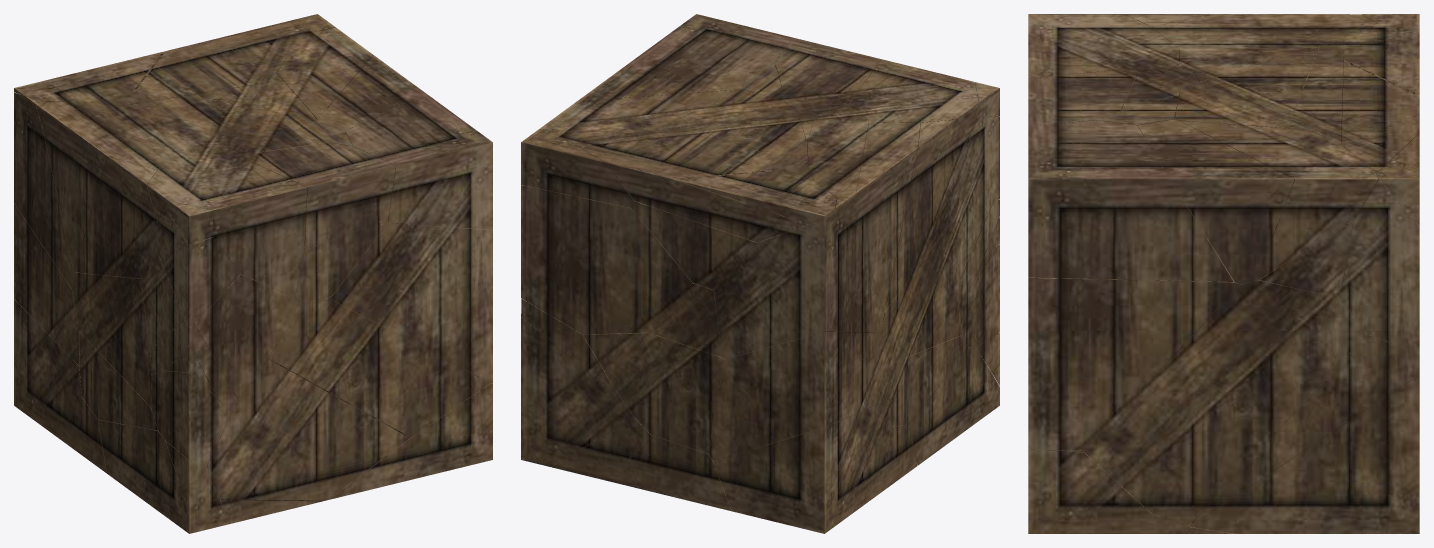
File: Shattered.fbx
The picture shows the model from 3 angles, left to right: view 1: azimuth 30°, elevation 25°; view 2: azimuth 150°, elevation 25°; view 3: azimuth 270°, elevation 25°; orthographic projection. The views are drawn at different scales.
Visible parts, largest first — view 1: Cube_cell.020, Cube_cell.052, Cube_cell.038, Cube_cell.008, Cube_cell.014, Cube_cell.051, Cube_cell.029, Cube_cell.005, Cube_cell.032, Cube_cell.036, Cube_cell.040, Cube_cell.046 (+23 smaller); view 2: Cube_cell.015, Cube_cell.047, Cube_cell.019, Cube_cell.026, Cube_cell.006, Cube_cell.021, Cube_cell.072, Cube_cell.005, Cube_cell.032, Cube_cell.040, Cube_cell.008, Cube_cell.014 (+26 smaller); view 3: Cube_cell.028, Cube_cell.014, Cube_cell.052, Cube_cell.072, Cube_cell.057, Cube_cell.070, Cube_cell.015, Cube_cell.018, Cube_cell.036, Cube_cell.008, Cube_cell.006, Cube_cell.058 (+12 smaller).
Boxes of the visible parts, x1,y1,x2,y2 form: Cube_cell.020: [207, 359, 409, 501]; Cube_cell.052: [330, 222, 492, 383]; Cube_cell.038: [267, 299, 489, 437]; Cube_cell.008: [146, 145, 307, 296]; Cube_cell.014: [345, 96, 492, 230]; Cube_cell.051: [140, 249, 302, 400]; Cube_cell.029: [239, 142, 395, 250]; Cube_cell.005: [42, 111, 184, 272]; Cube_cell.032: [74, 156, 157, 278]; Cube_cell.036: [328, 383, 492, 499]; Cube_cell.040: [72, 272, 151, 406]; Cube_cell.046: [98, 420, 226, 533]; Cube_cell.015: [521, 129, 692, 334]; Cube_cell.047: [714, 198, 884, 359]; Cube_cell.019: [709, 332, 889, 461]; Cube_cell.026: [713, 399, 892, 533]; Cube_cell.006: [555, 131, 807, 242]; Cube_cell.021: [583, 332, 724, 453]; Cube_cell.072: [521, 317, 633, 466]; Cube_cell.005: [853, 122, 920, 312]; Cube_cell.032: [885, 119, 967, 311]; Cube_cell.040: [881, 222, 962, 363]; Cube_cell.008: [844, 59, 979, 138]; Cube_cell.014: [633, 14, 792, 73]; Cube_cell.028: [1084, 280, 1366, 525]; Cube_cell.014: [1028, 120, 1233, 281]; Cube_cell.052: [1028, 230, 1239, 450]; Cube_cell.072: [1190, 375, 1419, 533]; Cube_cell.057: [1138, 119, 1294, 284]; Cube_cell.070: [1179, 120, 1378, 280]; Cube_cell.015: [1340, 170, 1419, 352]; Cube_cell.018: [1190, 333, 1419, 525]; Cube_cell.036: [1028, 448, 1157, 533]; Cube_cell.008: [1028, 14, 1178, 78]; Cube_cell.006: [1341, 46, 1419, 171]; Cube_cell.058: [1179, 14, 1371, 73].
Bounding box in the file's own units: 200 × 200 × 200.
